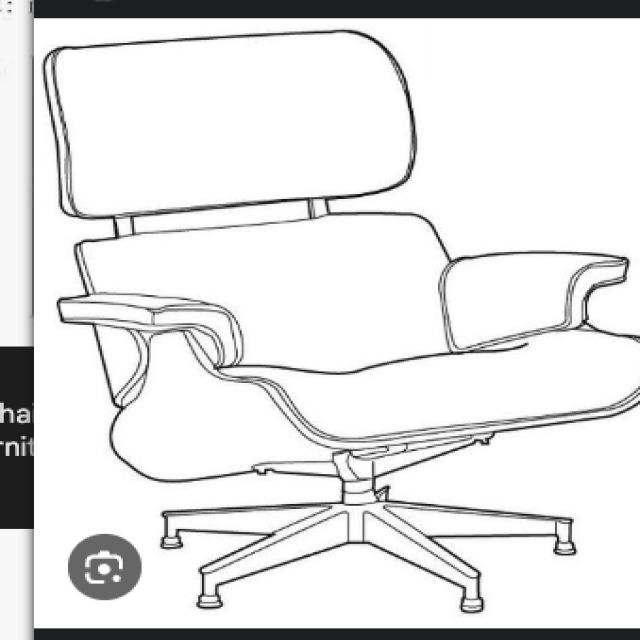Backrest: (70, 210, 454, 375)
Eames_base: (153, 494, 583, 619), (433, 248, 632, 355)
Eames_lounge: (53, 288, 248, 372)
Headrest: (38, 26, 421, 238)
Seat: (108, 322, 638, 483)
